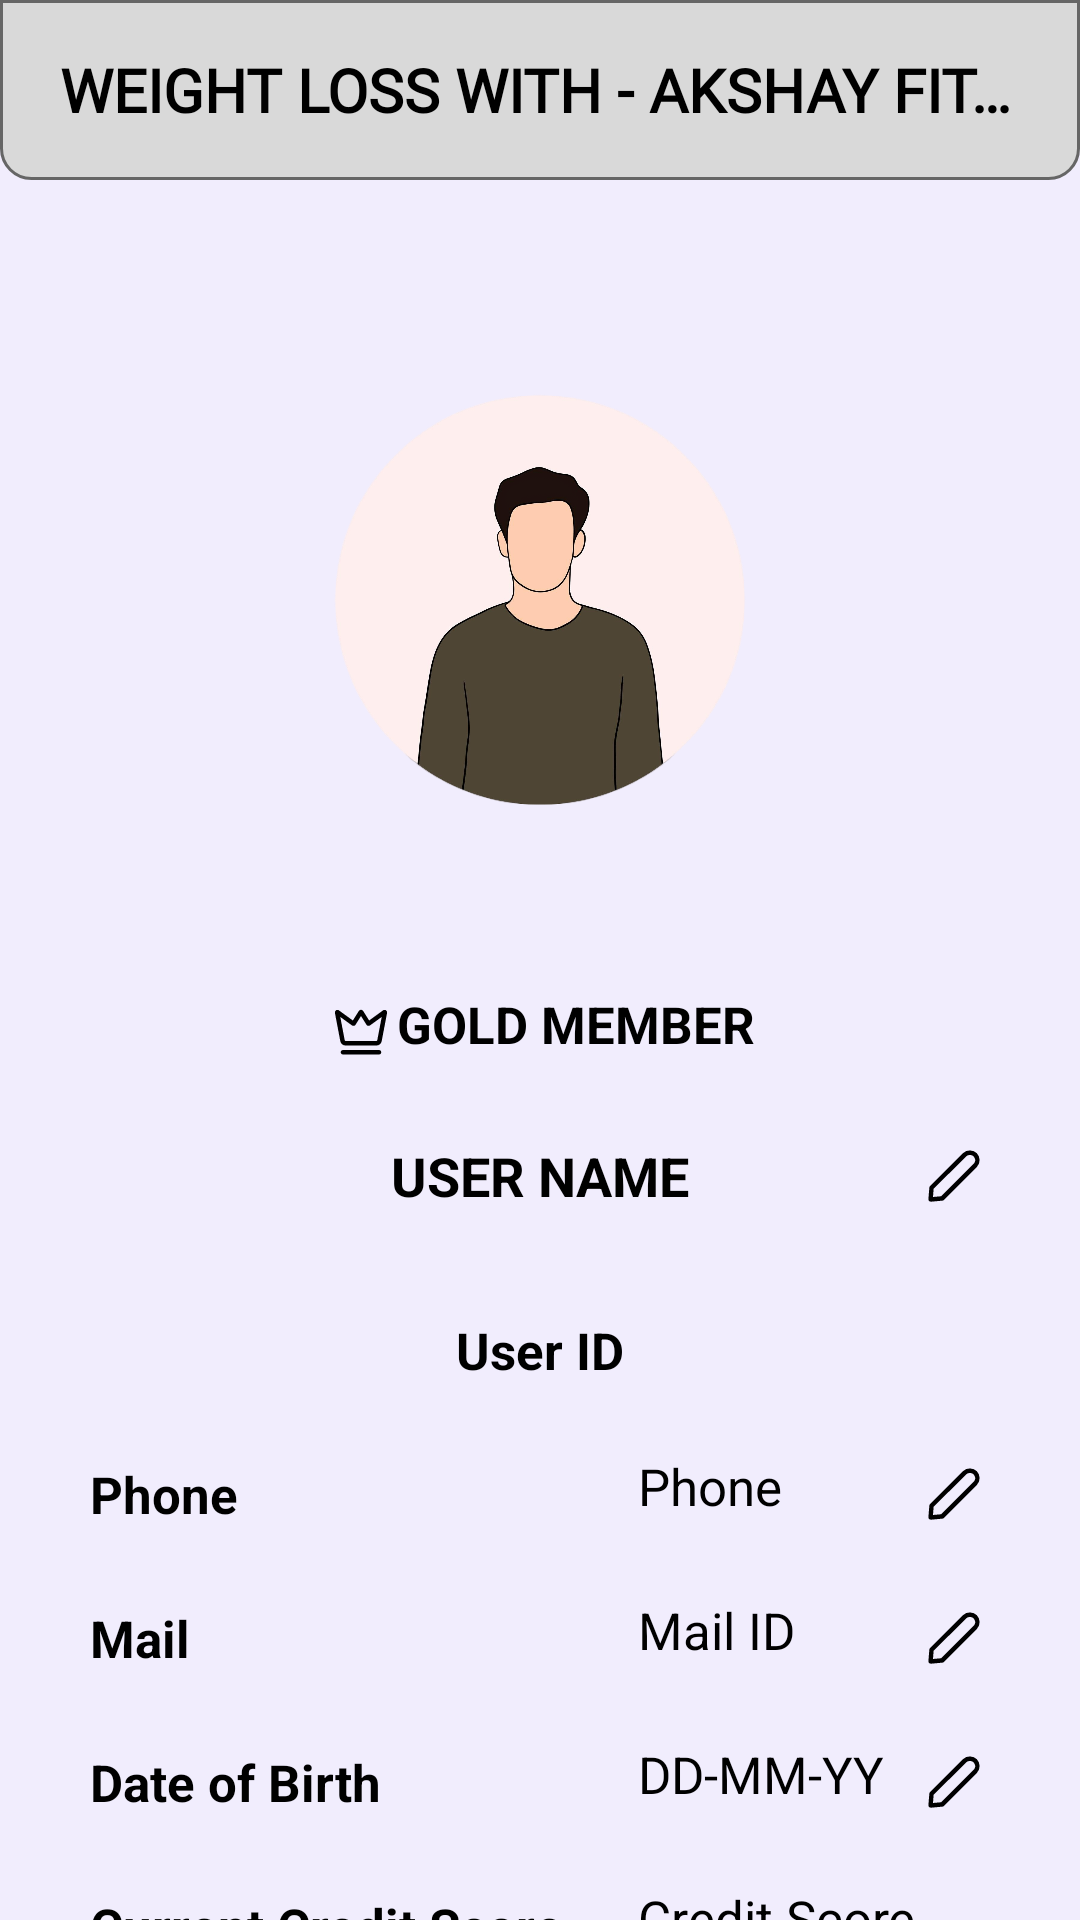

Named icons in this screenshot (1080*1920) and their centers, (x=x, y=y):
pencil: (x=954, y=1176), (x=954, y=1494), (x=954, y=1638), (x=954, y=1782)
user profile: (x=540, y=636)
